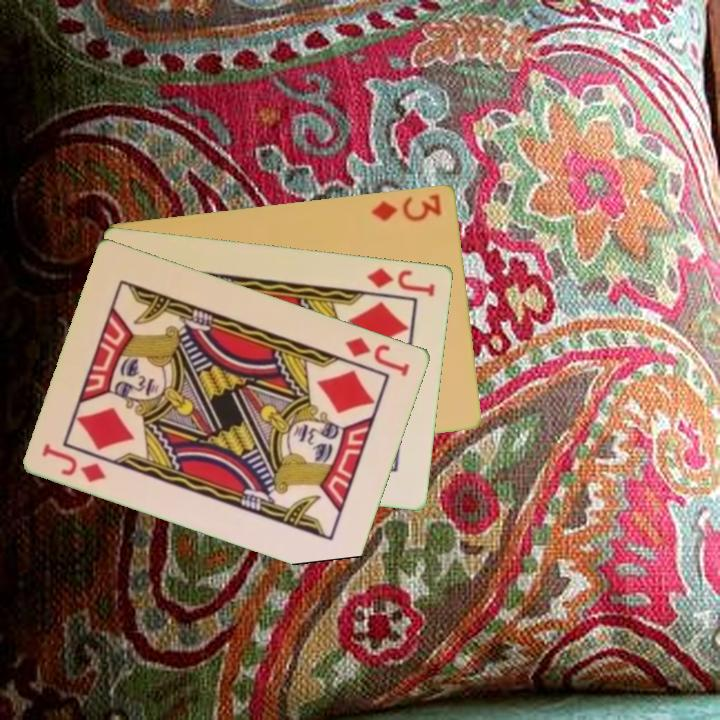3d: (368, 190, 445, 224)
Jd: (342, 333, 413, 379), (39, 439, 110, 485), (364, 264, 439, 299)
